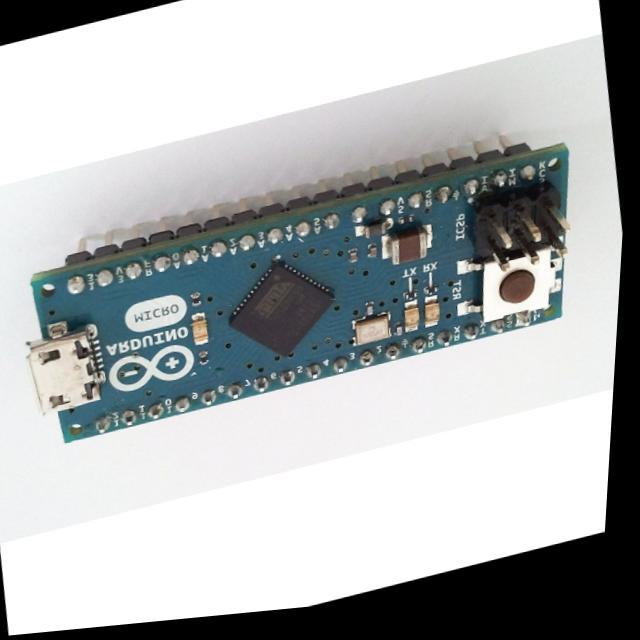Arduino-Micro: (28, 145, 569, 442)
